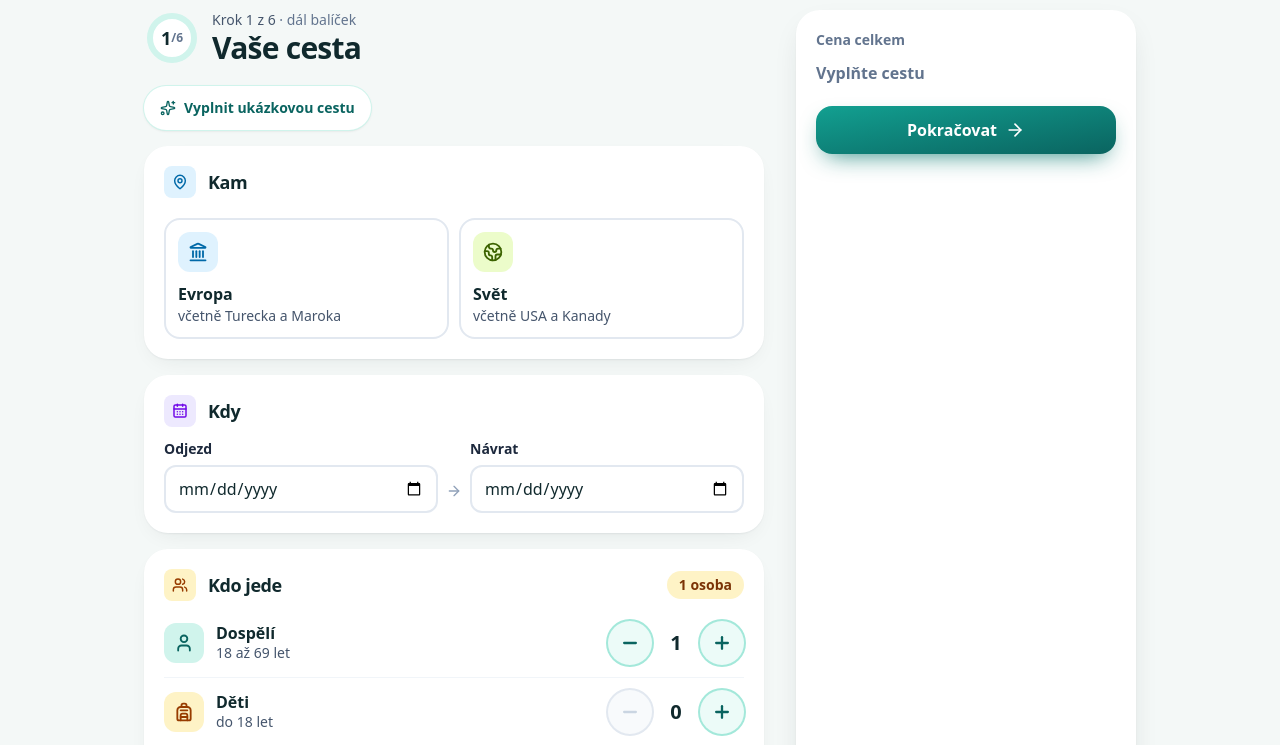
Test: PurchaseFlow › parametr krytí po kliknutí vysvětlí, co znamená
Step 1. Click the button "Vyplnit ukázkovou cestu" → x=257, y=108, box [144,86,371,130]
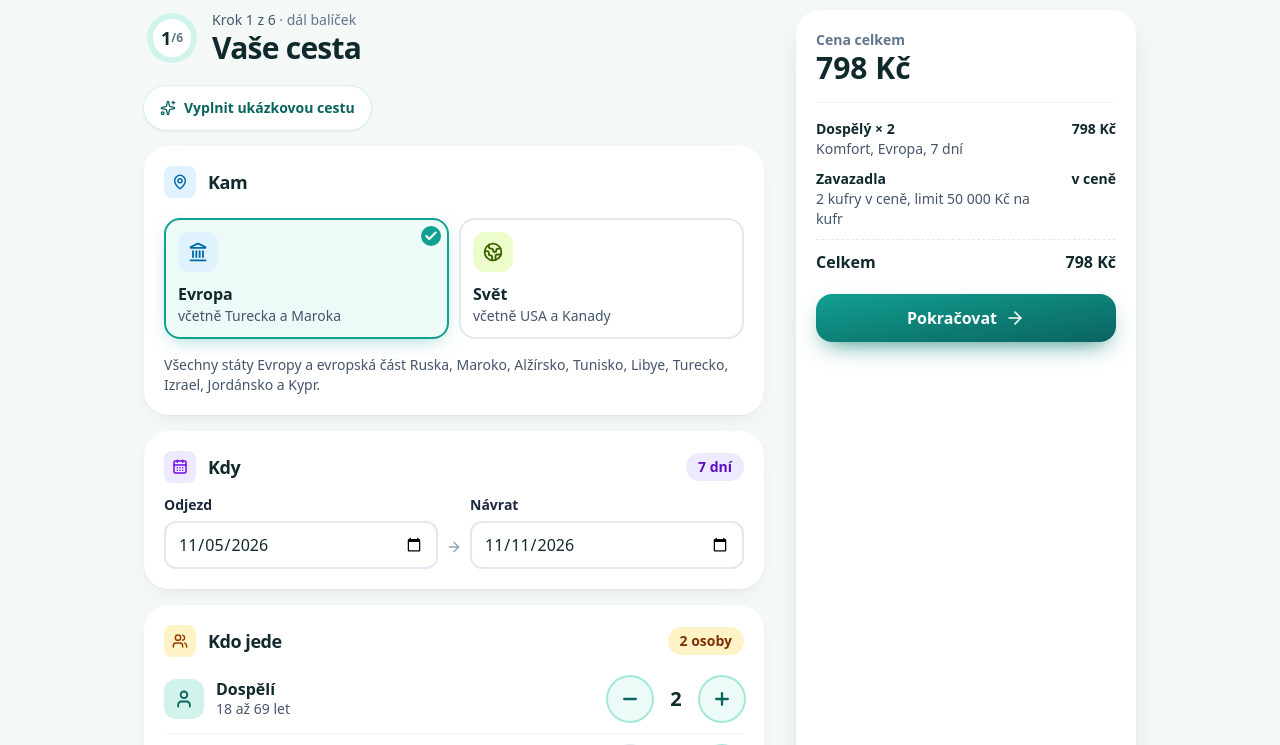
Step 2. Click the button "Pokračovat" → x=966, y=318, box [816,294,1116,342]
(page scrolled)
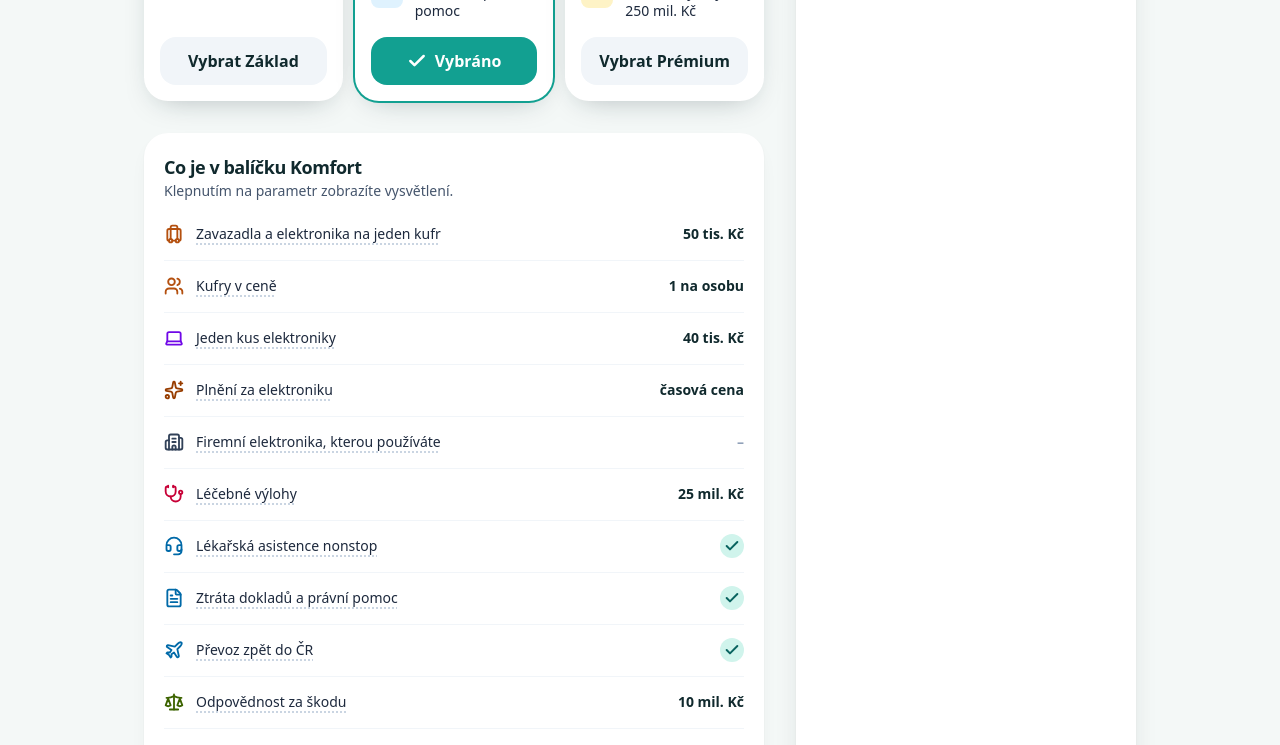
Step 3. Click the button "Plnění za elektroniku" → x=264, y=390, box [196,380,333,400]
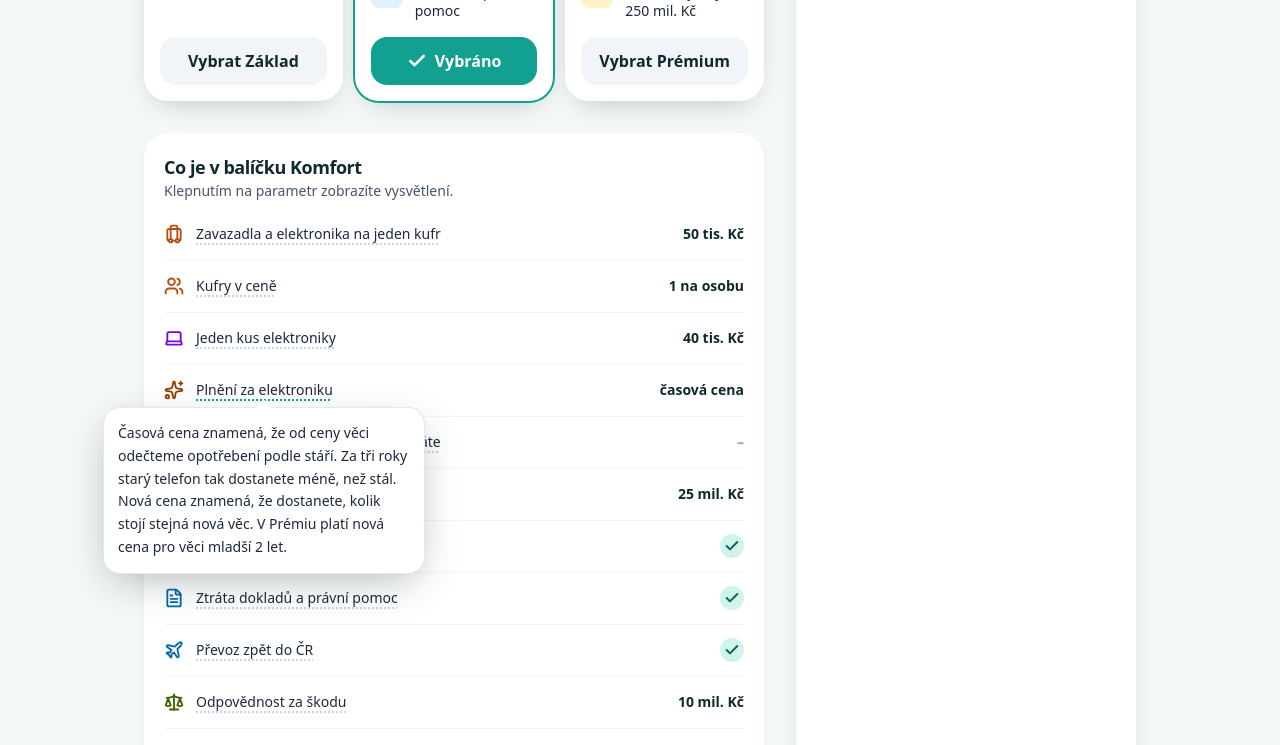
Result: the tooltip shows "Časová cena znamená" at [118,423,407,556]
